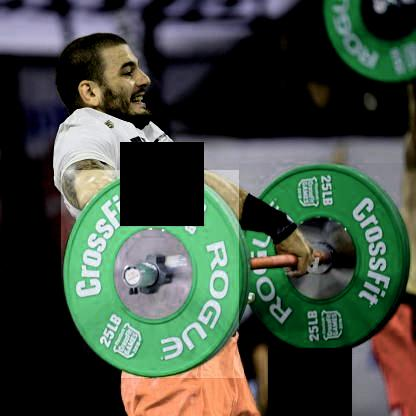barbell: (62, 170, 244, 379), (239, 164, 407, 354)
